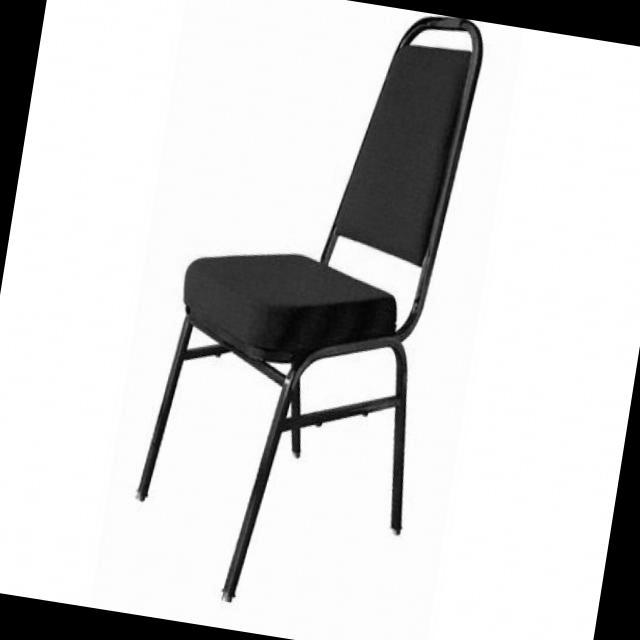chair: (114, 0, 501, 634)
